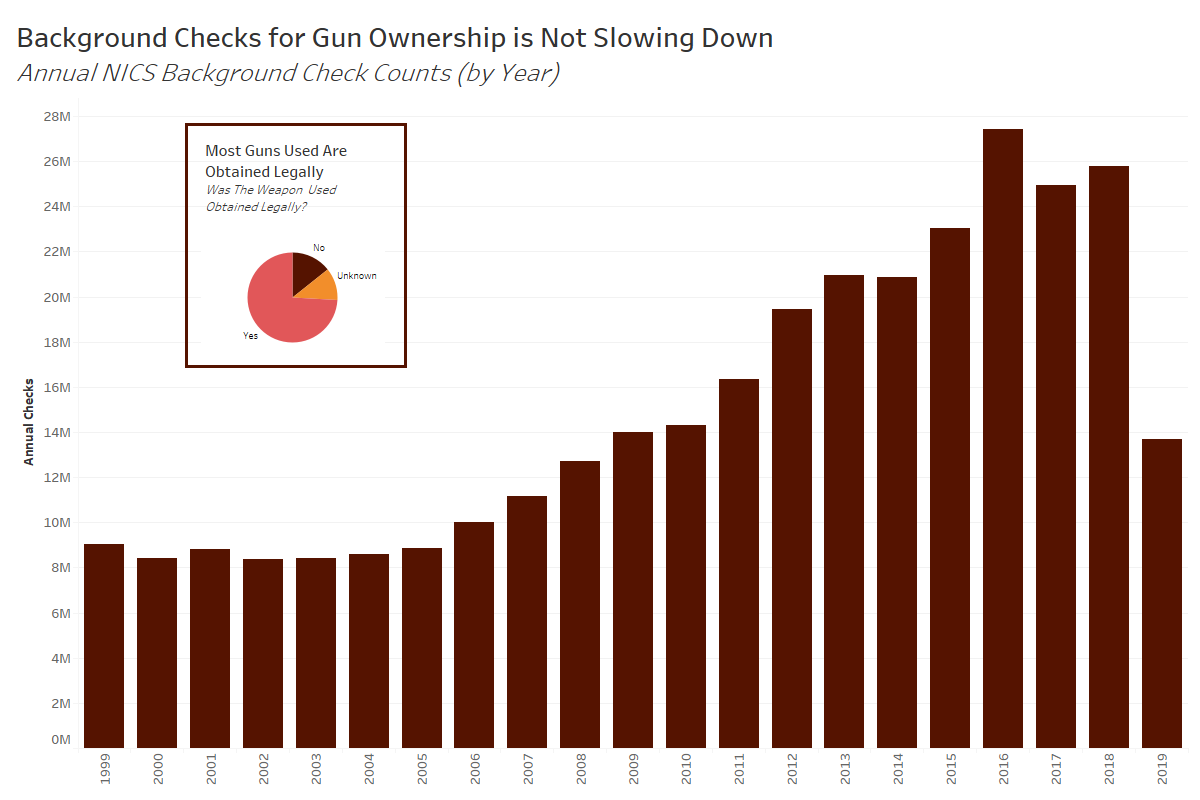

Layout of this report page (visuals, bound fields, positions):
{"tool":"tableau","page":{"name":"Dashboard 4","canvas":[1200,800],"ordinal":3},"visuals":[{"type":"worksheet","title":"Background Checks","mark":"Automatic","rows":["totals"],"box":[8,8,1184,784]},{"type":"blank","box":[185,123,222,245]},{"type":"worksheet","title":"OBtained","mark":"Pie","box":[201,134,240,249]}]}

Visuals, with their boxes in screenshot pixels (x1, y1, x2, y2), scaled from the page's 1200x800 canvas onto the 1200x800 screenshot:
"Background Checks" worksheet: bbox=[8, 8, 1192, 792]
blank: bbox=[185, 123, 407, 368]
"OBtained" worksheet (Pie marks): bbox=[201, 134, 441, 383]
